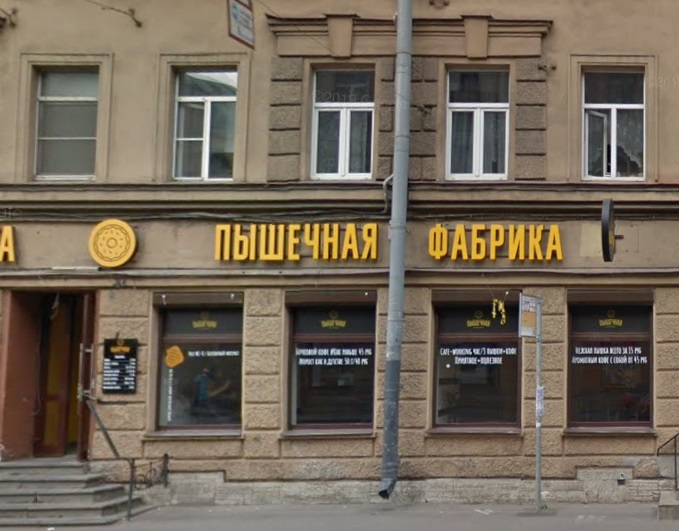cantilever: (593, 197, 625, 265)
door: (33, 292, 96, 462)
signboard: (206, 222, 569, 261), (80, 213, 142, 269)
window: (429, 290, 522, 428), (285, 292, 375, 432), (151, 292, 243, 427), (569, 291, 653, 428), (29, 68, 100, 177), (170, 68, 237, 181), (311, 66, 376, 179), (445, 68, 511, 179), (581, 69, 644, 181)
